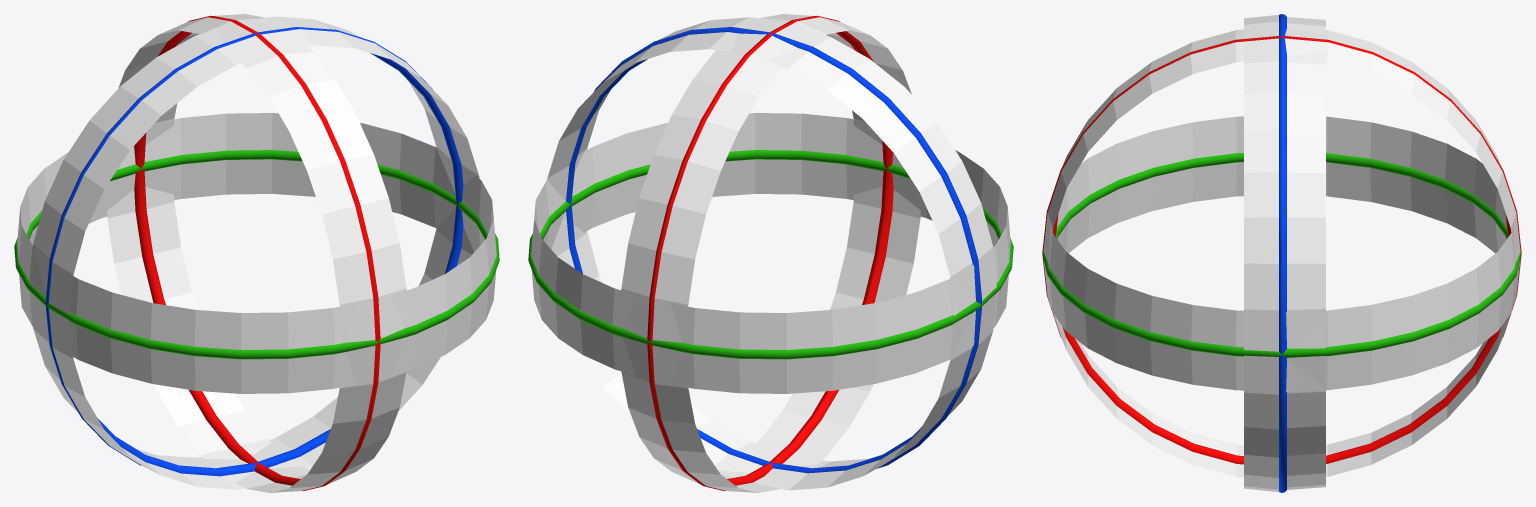
3 views of the same model, side by side, from view 1: azimuth 30°, elevation 25°; view 2: azimuth 150°, elevation 25°; view 3: azimuth 270°, elevation 25° (orthographic).
Visible parts, largest first — view 1: 旋转; view 2: 旋转; view 3: 旋转.
Boxes of the visible parts, x1,y1,x2,y2 form: 旋转: (14, 14, 499, 492); 旋转: (528, 14, 1013, 492); 旋转: (1042, 14, 1521, 492).
Size of the model in its own units: 65.84 by 65.84 by 65.84.
